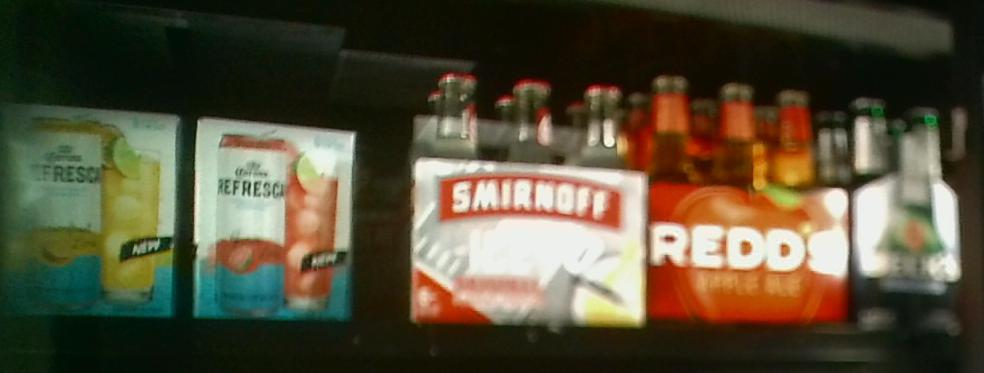bottle: (411, 72, 645, 325), (635, 73, 852, 327), (3, 102, 180, 321), (191, 115, 355, 319), (850, 96, 966, 334)
